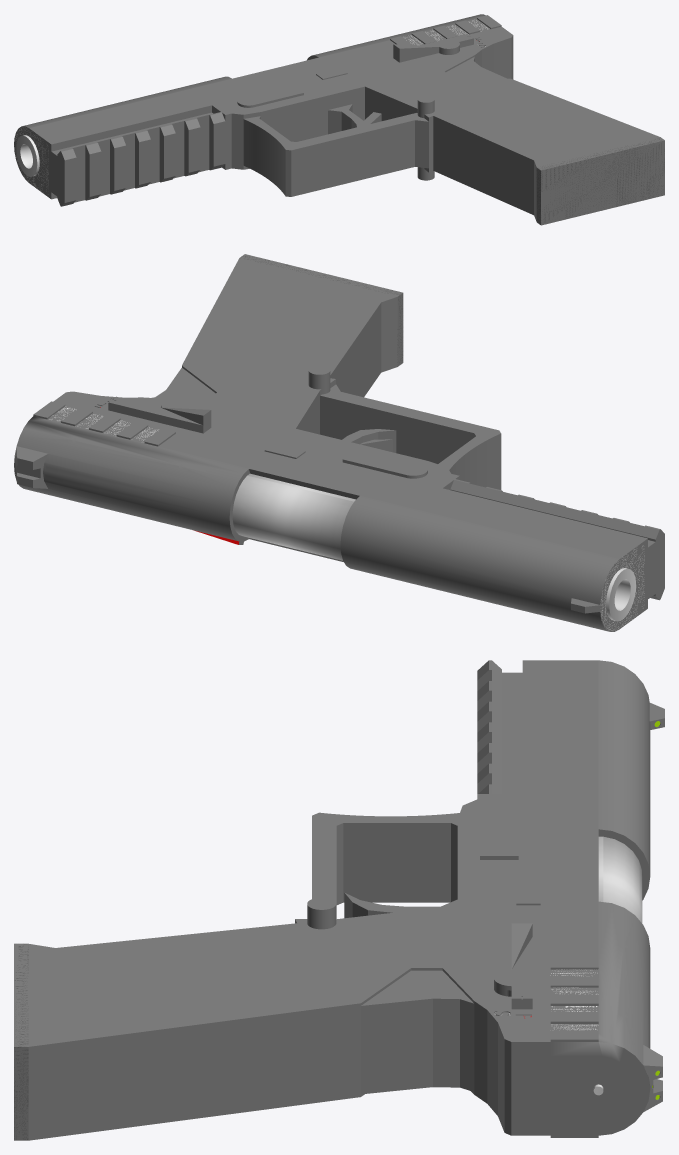
File: gun.fbx
The picture shows the model from 3 angles, top to bottom: view 1: azimuth 30°, elevation 25°; view 2: azimuth 150°, elevation 25°; view 3: azimuth 270°, elevation 25°; orthographic projection. The views are drawn at different scales.
Parts seen in each view (by area): view 1: group_22; view 2: group_22; view 3: group_22.
Boxes of the visible parts, bbox=[...] form: group_22: bbox=[14, 14, 664, 225]; group_22: bbox=[14, 254, 664, 631]; group_22: bbox=[14, 660, 664, 1140].
Bounding box in the file's own units: 18.84 × 3.2 × 13.34.
Materials: 9 (3 with a texture image).
